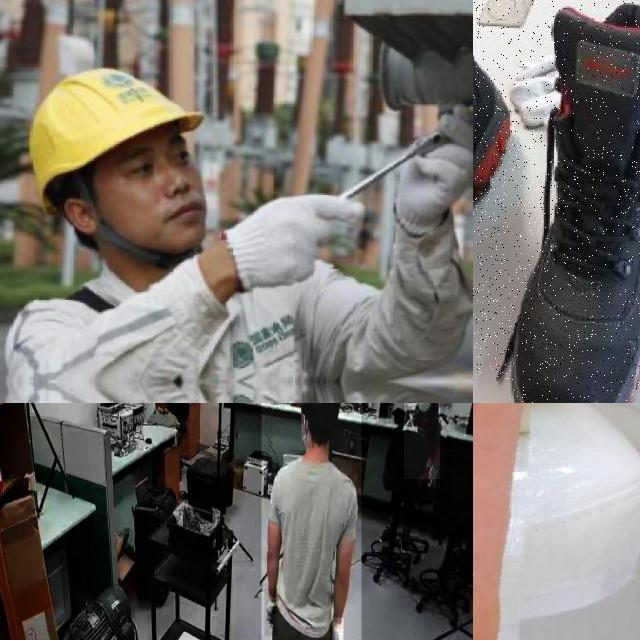Barefoots: (473, 403, 541, 640)
No_Ear-Protection: (64, 198, 99, 236)
No_Glasses: (112, 130, 193, 187)
boots: (507, 0, 640, 403), (473, 0, 510, 379)
face_mask: (415, 403, 435, 417)
face_nomask: (102, 164, 207, 255)
hand_glove: (226, 195, 362, 290), (397, 116, 473, 236), (264, 588, 278, 638), (332, 617, 344, 640)
head_helmet: (30, 69, 202, 208)
person: (261, 403, 362, 640), (403, 403, 440, 479)
